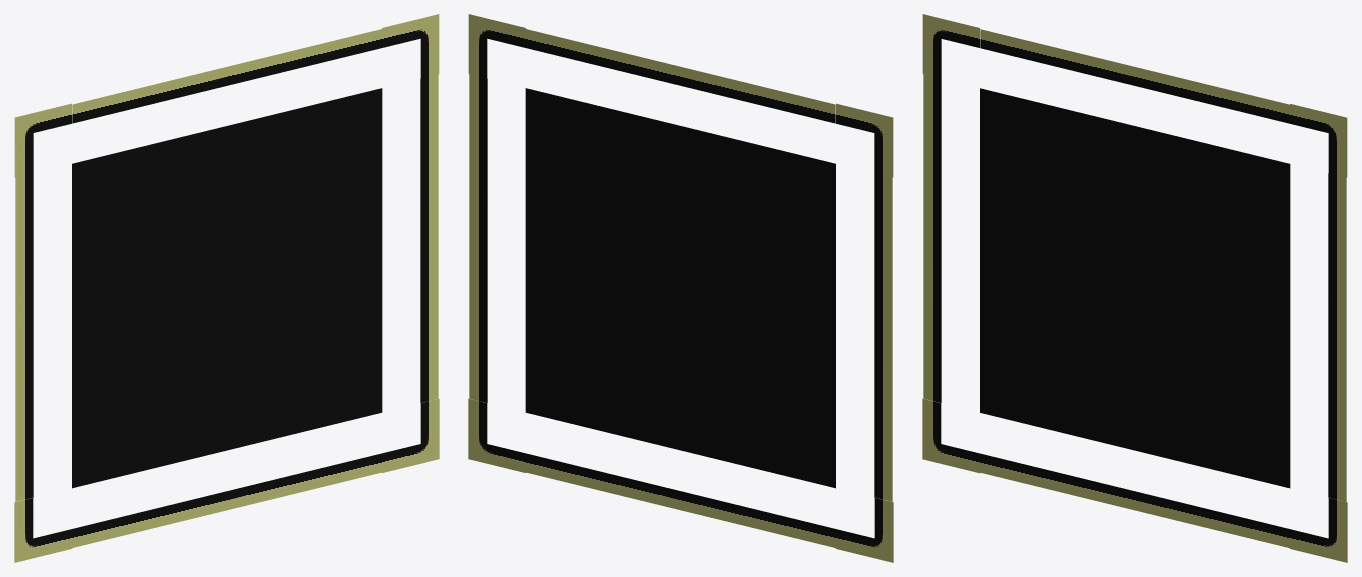
Rendered from pir_m_gui_frm_subframe.fbx.
3 renders of one model, left to right at view 1: azimuth 30°, elevation 25°; view 2: azimuth 150°, elevation 25°; view 3: azimuth 330°, elevation 25°, orthographic.
Parts seen in each view (by area): view 1: MiddleMesh, LeftMesh, RightMesh, bottomMesh, TopMesh, BottomLeftMesh, bottomRightMesh, TopRightMesh, TopLeftMesh; view 2: MiddleMesh, LeftMesh, RightMesh, bottomMesh, TopMesh, BottomLeftMesh, TopLeftMesh, bottomRightMesh, TopRightMesh; view 3: MiddleMesh, LeftMesh, RightMesh, bottomMesh, TopMesh, BottomLeftMesh, TopLeftMesh, TopRightMesh, bottomRightMesh.
Boxes of the visible parts, <box> form: MiddleMesh: <box>72,88,382,488</box>; LeftMesh: <box>15,173,33,501</box>; RightMesh: <box>420,74,438,402</box>; bottomMesh: <box>72,453,381,547</box>; TopMesh: <box>72,29,381,123</box>; BottomLeftMesh: <box>14,498,72,562</box>; bottomRightMesh: <box>382,398,439,472</box>; TopRightMesh: <box>382,14,439,78</box>; TopLeftMesh: <box>14,103,71,177</box>; MiddleMesh: <box>525,88,835,488</box>; LeftMesh: <box>874,173,892,501</box>; RightMesh: <box>469,74,487,402</box>; bottomMesh: <box>526,453,835,547</box>; TopMesh: <box>526,29,835,123</box>; BottomLeftMesh: <box>835,498,893,562</box>; TopLeftMesh: <box>836,103,893,177</box>; bottomRightMesh: <box>468,398,525,472</box>; TopRightMesh: <box>468,14,525,78</box>; MiddleMesh: <box>980,88,1290,488</box>; LeftMesh: <box>923,74,941,402</box>; RightMesh: <box>1328,173,1346,501</box>; bottomMesh: <box>980,453,1289,547</box>; TopMesh: <box>980,29,1289,123</box>; BottomLeftMesh: <box>922,398,979,473</box>; TopLeftMesh: <box>922,14,979,78</box>; TopRightMesh: <box>1290,104,1347,177</box>; bottomRightMesh: <box>1290,498,1347,562</box>.
Size of the model in its own units: 137 by 137 by 2.24e-05.
Materials: 2 (2 with a texture image).
